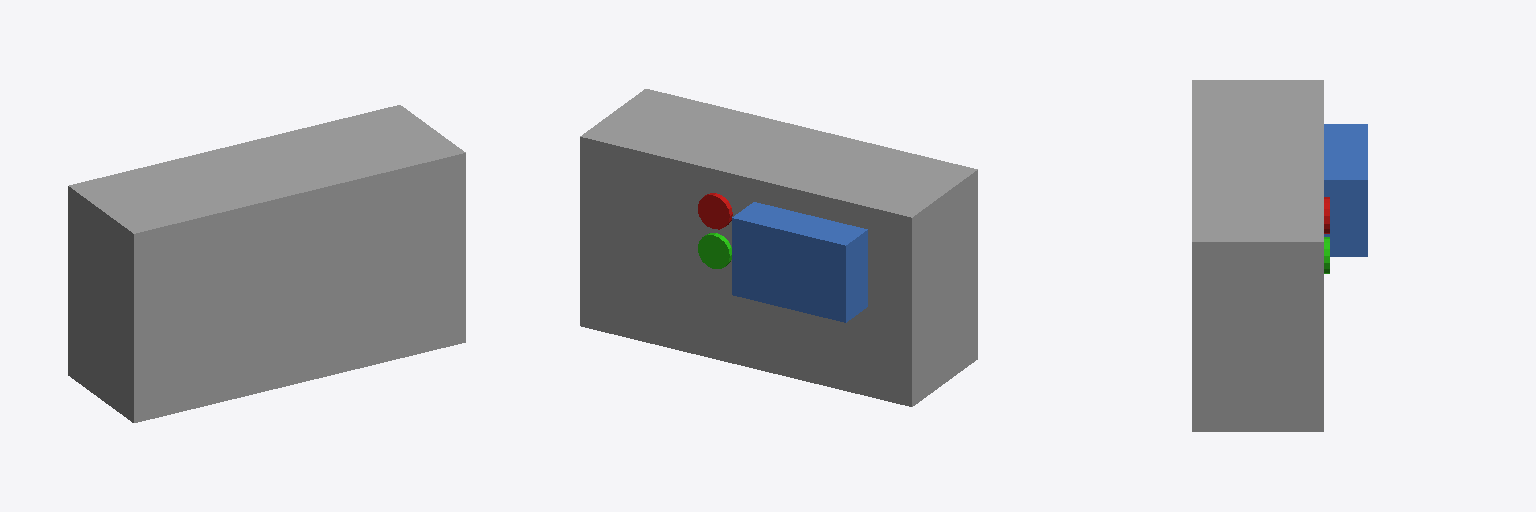
The model's file is shield_pack.obj.
3 views of the same model, side by side, from view 1: azimuth 30°, elevation 25°; view 2: azimuth 150°, elevation 25°; view 3: azimuth 270°, elevation 25° (orthographic).
Visible parts, largest first — view 1: Cube; view 2: Cube, Cube.001, Cylinder.001, Cylinder; view 3: Cube, Cube.001.
Boxes of the visible parts, x1=… form: Cube: x1=68, y1=105, x2=465, y2=422; Cube: x1=580, y1=89, x2=977, y2=406; Cube.001: x1=732, y1=202, x2=867, y2=322; Cylinder.001: x1=698, y1=193, x2=732, y2=229; Cylinder: x1=698, y1=233, x2=731, y2=268; Cube: x1=1192, y1=80, x2=1323, y2=431; Cube.001: x1=1324, y1=124, x2=1367, y2=256.
Size of the model in its own units: 0.6509 by 0.3551 by 0.2986.